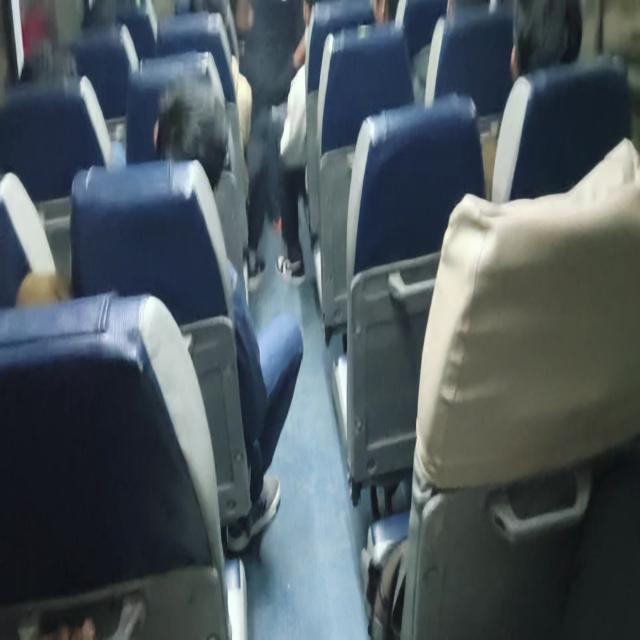person: (152, 74, 304, 552), (275, 1, 377, 284), (491, 0, 584, 201), (237, 0, 304, 278), (275, 1, 313, 284), (509, 0, 582, 82)
